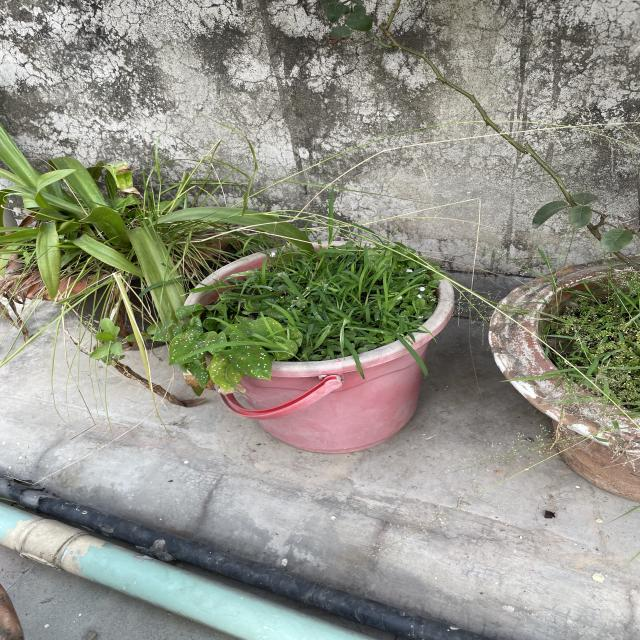Breeding Place: (174, 240, 450, 454), (491, 250, 640, 498)
